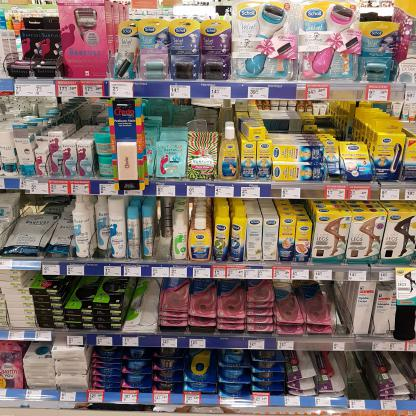Void: (321, 100, 350, 138), (125, 275, 161, 303), (352, 353, 377, 392)
